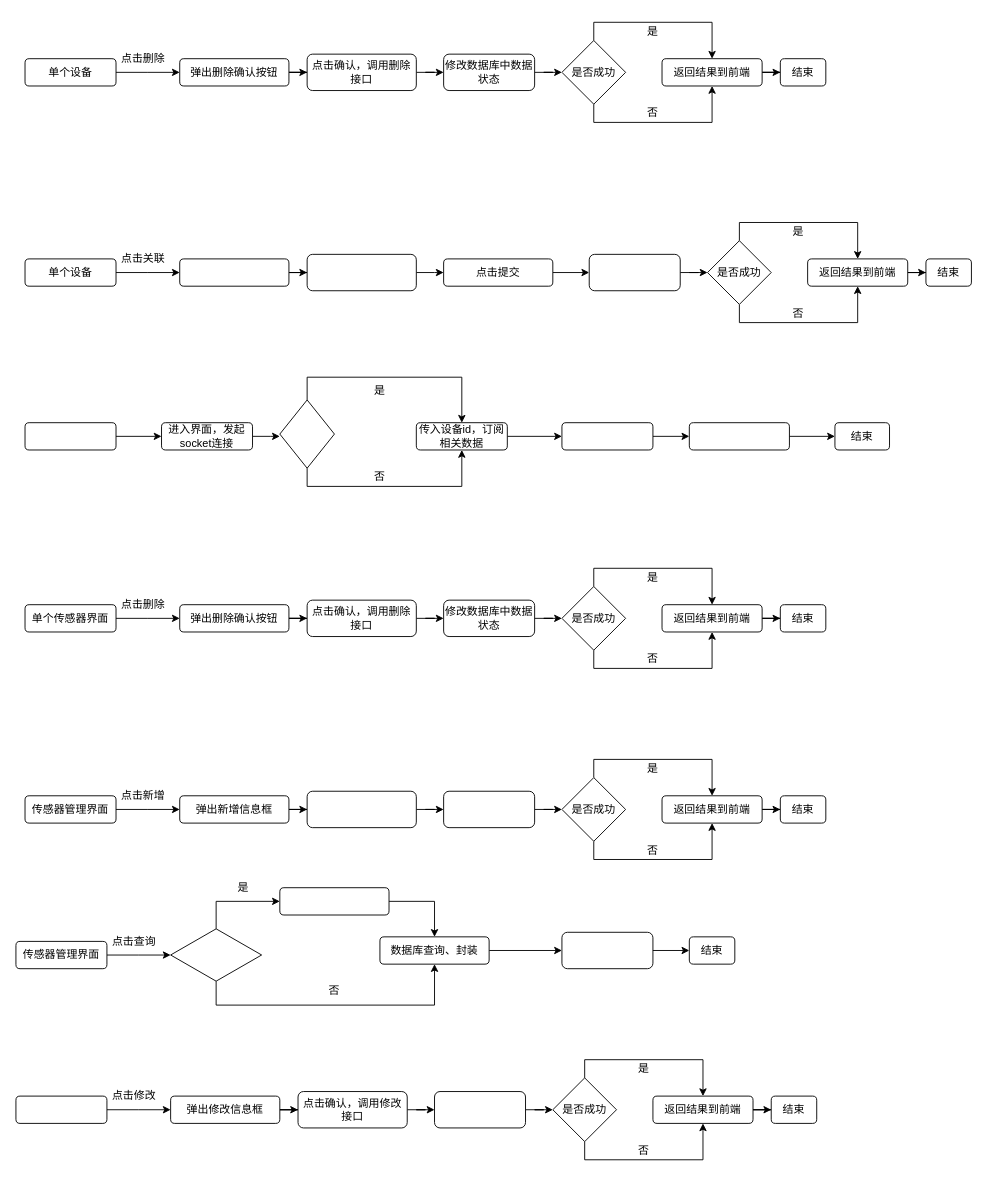
Some shapes in this 987 by 1183 pixel diagram are drawn without their labels. Each missing label, with the centre of its shape:
修改数据库中数据: point 480,1109
单个传感器: point 61,1109
封装json数据返回前端: point 607,950
弹出关联界面: point 234,272
拼接条件参数: point 334,901
数据传回给前端: point 607,436
数据库中插入数据: point 489,809
新增设备-传感器关系: point 634,272
是否条件查询: point 216,954
是否连接: point 306,433
点击确认，调用新增接口: point 361,809
界面关闭断开长连接: point 738,436
设备详情界面: point 70,436
选择要关联的传感器: point 361,272
